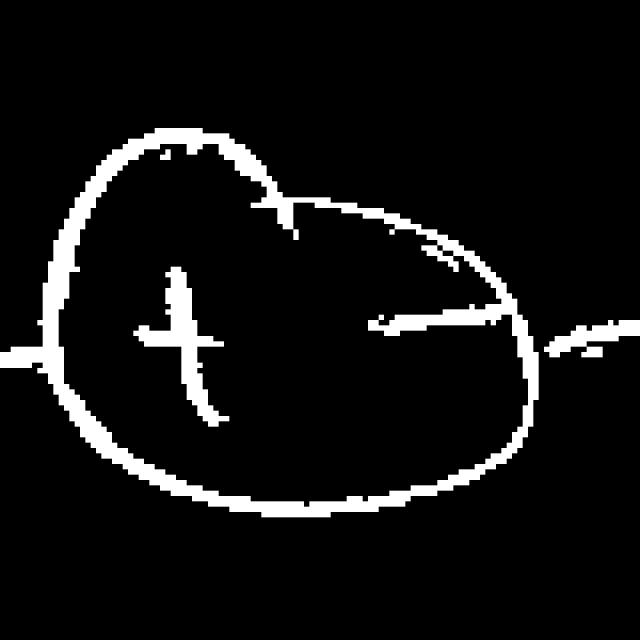voltage_source: (37, 109, 541, 529)
